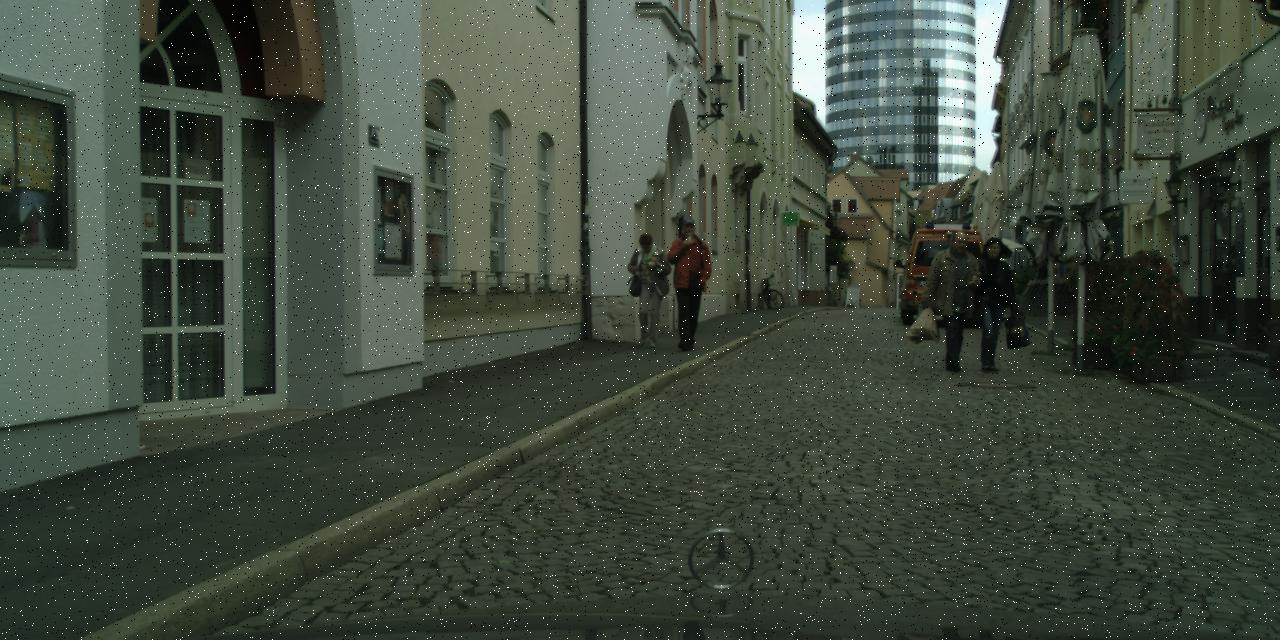ped: (928, 230, 985, 370), (965, 237, 1020, 371), (662, 218, 715, 349), (622, 232, 669, 346), (1033, 258, 1053, 308)
